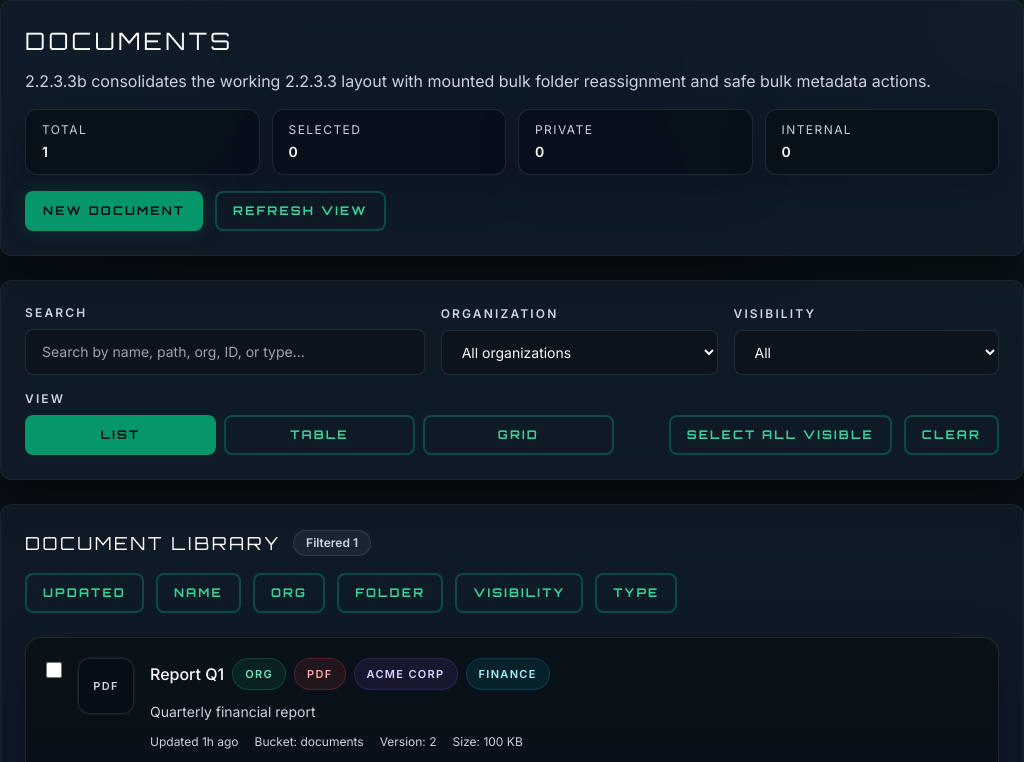
Test: AdminDocumentsCenterClient › selection › selects a document via checkbox
Click the checkbox named "Select document": (54, 670) [46,662,62,678]
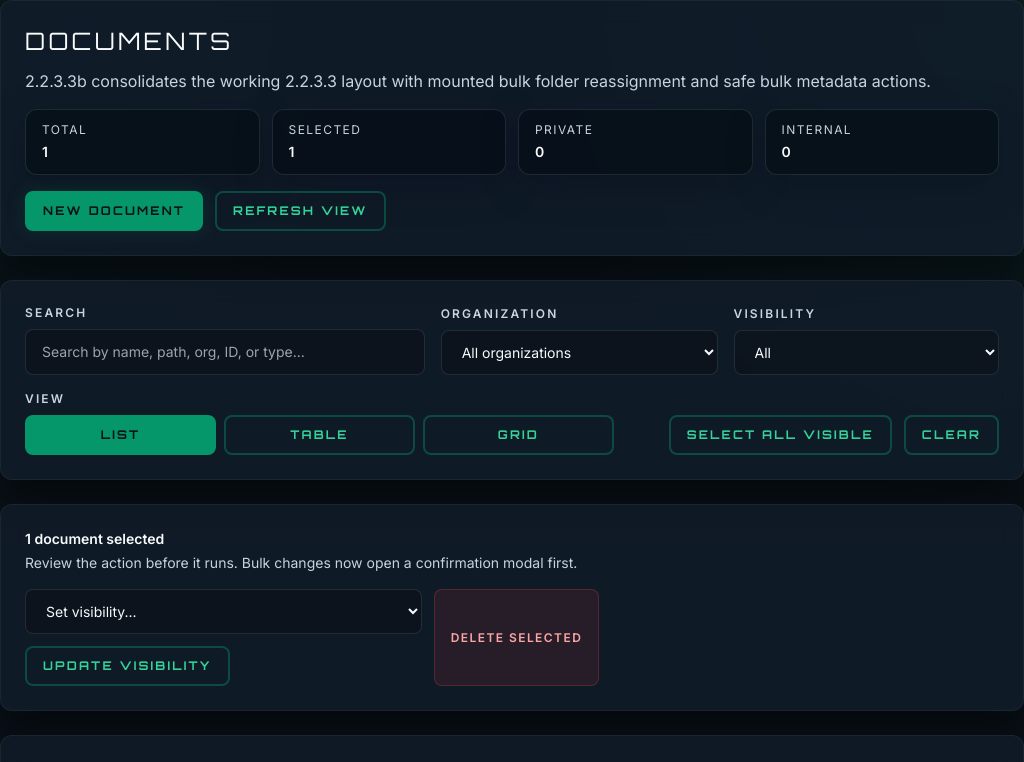
Expected: the text "1 document selected" is shown, [25,530,164,547]
